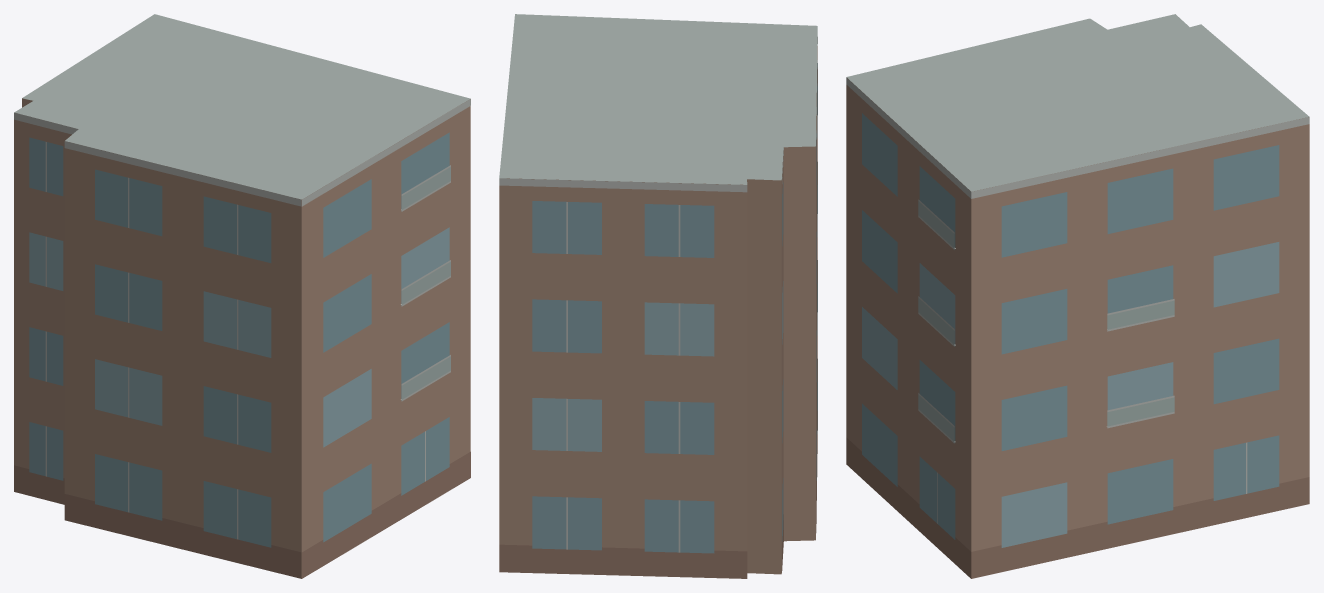
Rendered from survey-upis-32733469.glb.
3 views of the same model, side by side, from view 1: azimuth 30°, elevation 25°; view 2: azimuth 150°, elevation 25°; view 3: azimuth 270°, elevation 25° (orthographic). The views are drawn at different scales.
Visible parts, largest first — view 1: survey-upis-32733469.tmp; view 2: survey-upis-32733469.tmp; view 3: survey-upis-32733469.tmp.
Boxes of the visible parts, x1,y1,x2,y2 form: survey-upis-32733469.tmp: (14,14,470,578); survey-upis-32733469.tmp: (499,14,817,578); survey-upis-32733469.tmp: (846,14,1309,578).
Size of the model in its own units: 12.82 by 13.01 by 14.12.
